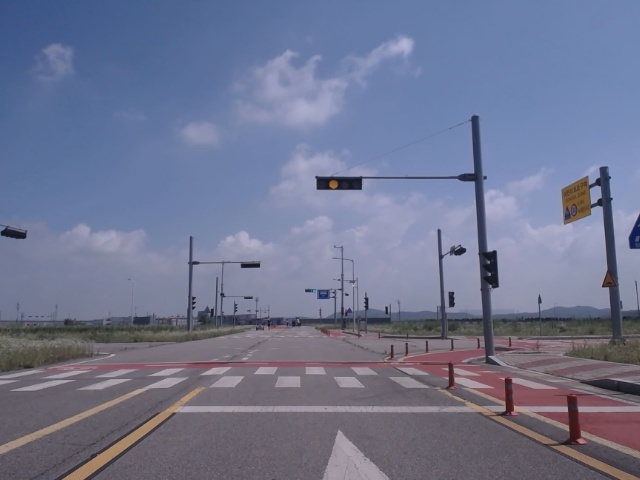orange_4: (315, 176, 364, 189)
